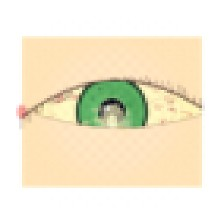corneal_ulcer: (87, 100, 140, 142)
